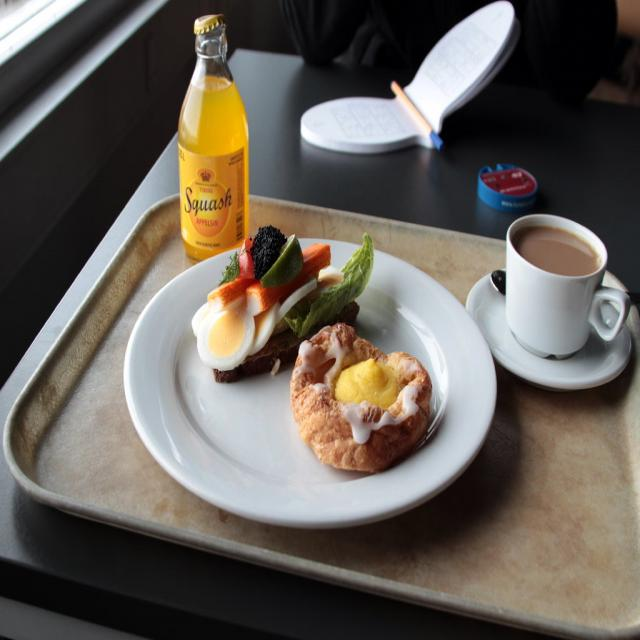Tea: (516, 225, 604, 275)
